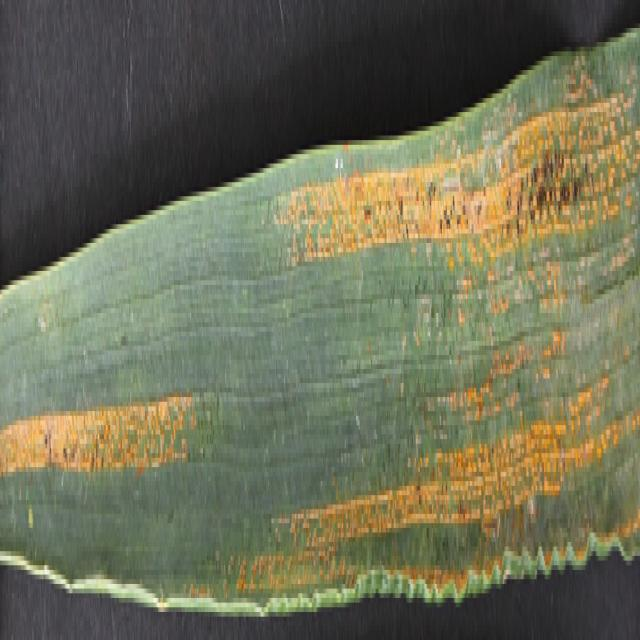leaf rust: (240, 74, 638, 640), (0, 313, 202, 533)
